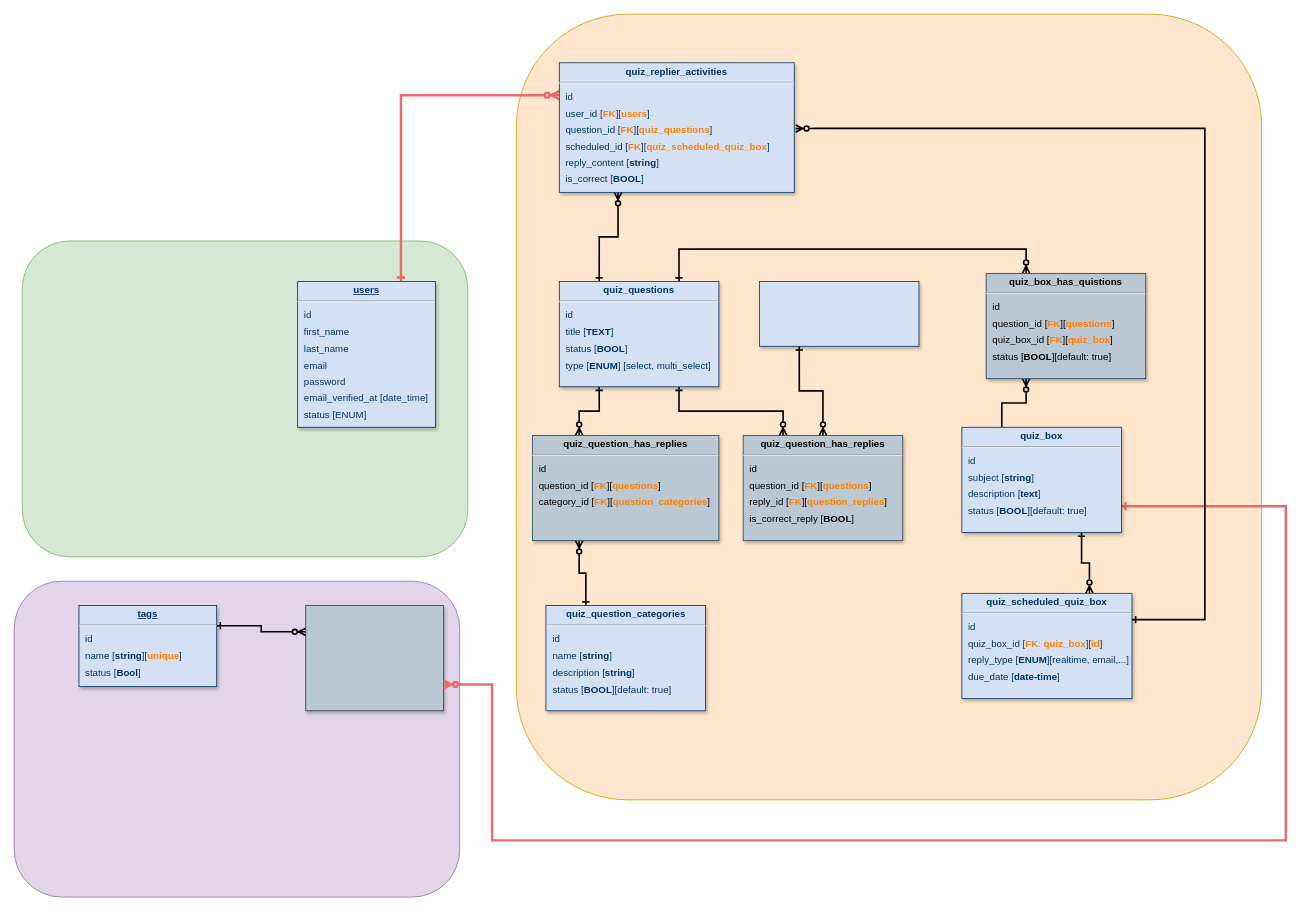
This 1308x911 diagram has some shape labels left out. The shapes that lost their labels are listed below. From the top down, each one's centre as x and y in pixels, then its label:
the point at 839,314: quiz_question_replies id content
the point at 375,658: item_has_tags id tag_id [ FK ][ id ] item_type [ morph ] item_id [ morph ]
